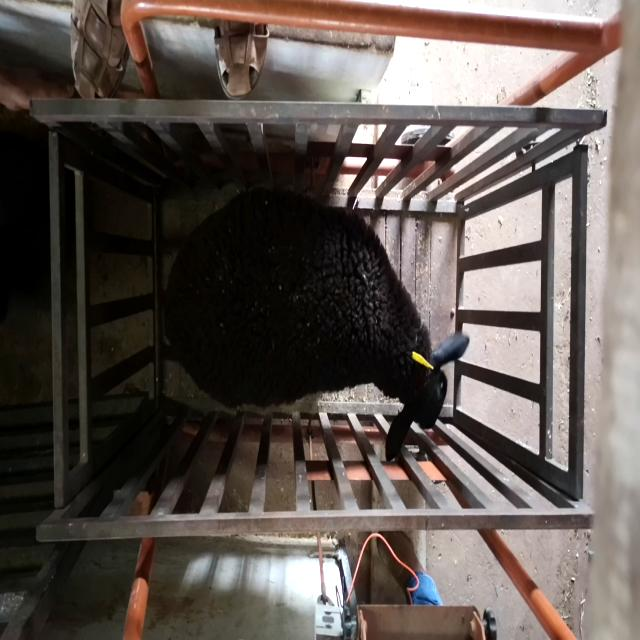sheep: (164, 188, 470, 463)
